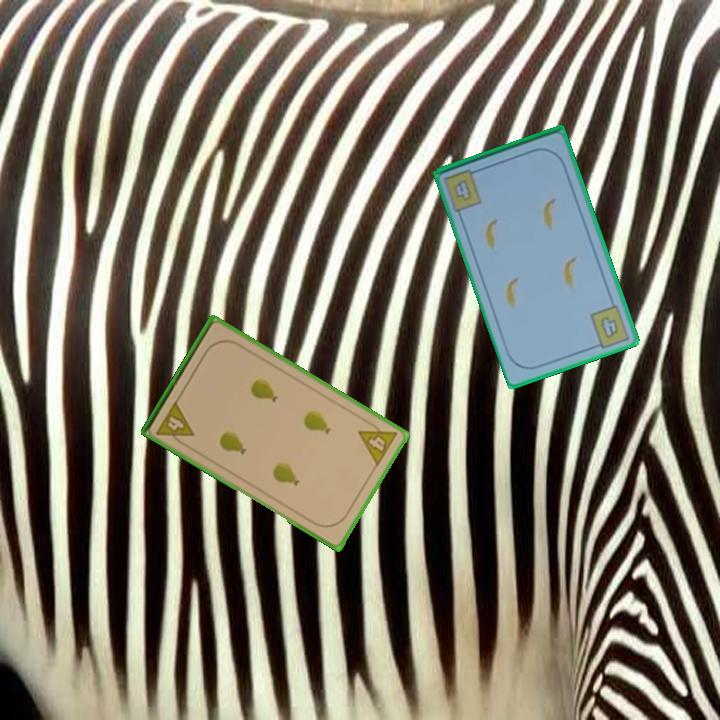4b: (586, 301, 630, 352), (451, 176, 475, 204)
4p: (355, 416, 400, 469), (153, 397, 197, 449)
